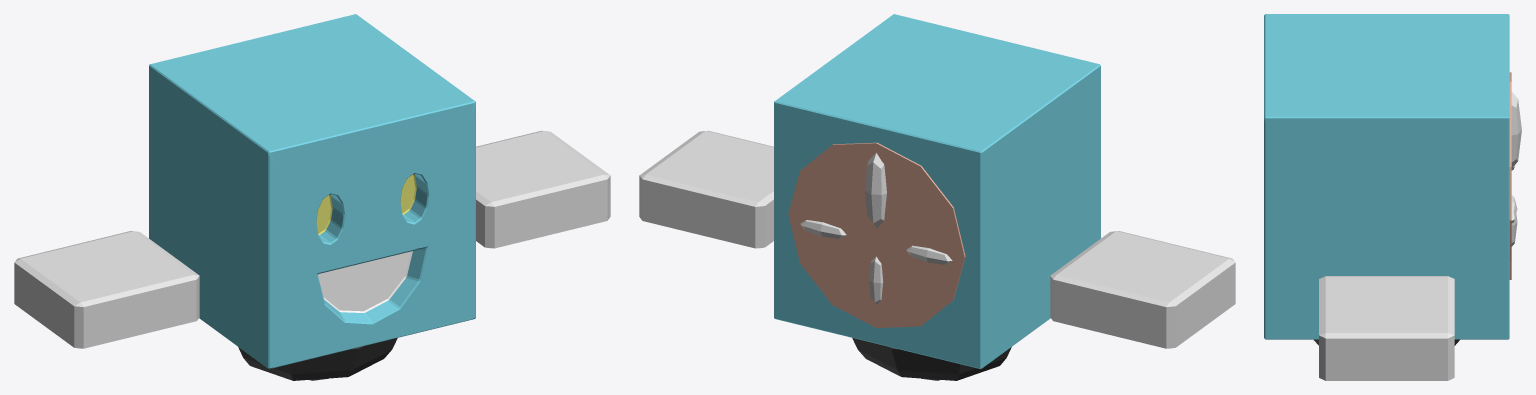
File: robocop.fbx
3 views of the same model, side by side, from view 1: azimuth 30°, elevation 25°; view 2: azimuth 150°, elevation 25°; view 3: azimuth 270°, elevation 25° (orthographic). The views are drawn at different scales.
Visible parts, largest first — view 1: Cube.008, Cube.003, Cube.002, Cube; view 2: Cube.008, Cylinder, Cube.003, Cube.002, Cube, Cube.006, Cube.001, Cube.007, Cube.005; view 3: Cube.008, Cube.002, Cube.006, Cylinder.
Boxes of the visible parts, box(x1,y1,x2,y2) form: Cube.008: box(149, 14, 475, 368); Cube.003: box(14, 231, 199, 348); Cube.002: box(476, 130, 610, 248); Cube: box(238, 338, 397, 380); Cube.008: box(774, 14, 1100, 368); Cylinder: box(788, 142, 965, 327); Cube.003: box(1050, 231, 1235, 348); Cube.002: box(639, 130, 773, 248); Cube: box(852, 338, 1011, 380); Cube.006: box(864, 153, 886, 228); Cube.001: box(869, 256, 883, 304); Cube.007: box(906, 245, 952, 264); Cube.005: box(800, 220, 846, 238); Cube.008: box(1264, 14, 1509, 339); Cube.002: box(1319, 276, 1454, 380); Cube.006: box(1511, 91, 1521, 168); Cylinder: box(1509, 72, 1511, 279).
Bounding box in the file's own units: 366 × 194 × 149.
